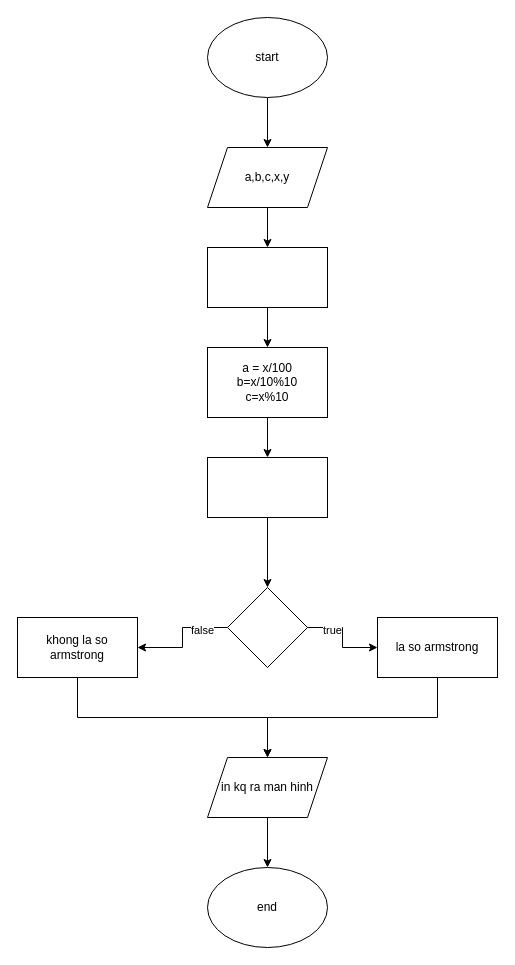
The diagram is 515 pixels wide and 965 high, and some of its shapes have lost their labels. The shapes that lost their labels are listed below. From the top down, each one's centre as x and y in pixels, then its label:
[267,277]: nhap x (3 chu so)
[267,487]: y=a*a*a+b*b*b+c*c*c
[267,627]: y==x
